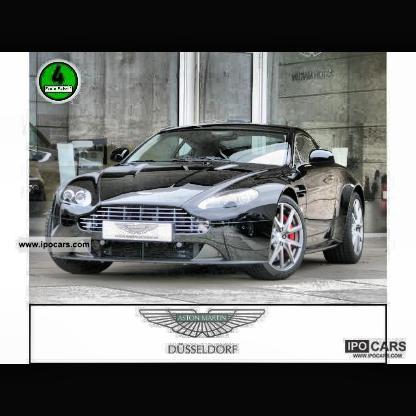Aston Martin V8 Vantage Coupe 2012: (45, 120, 370, 285)
